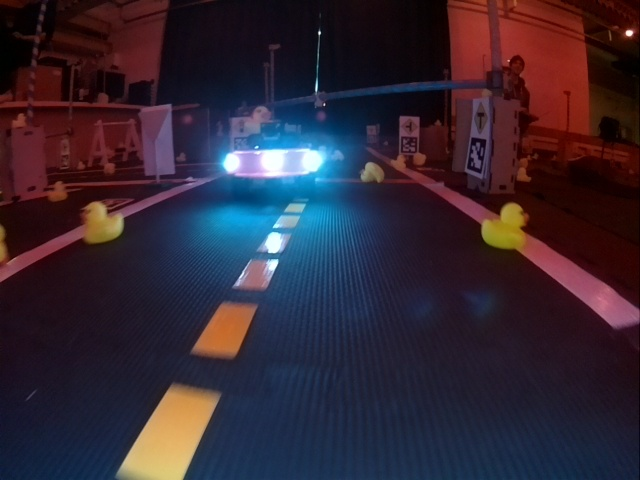Duckie: (483, 205, 527, 247), (85, 202, 119, 244), (360, 161, 384, 182), (48, 182, 64, 202)
Duckiebot: (231, 133, 321, 195)
Intersection sign: (471, 100, 490, 133), (403, 117, 419, 134)
QR code: (465, 142, 488, 177), (399, 138, 419, 154)
